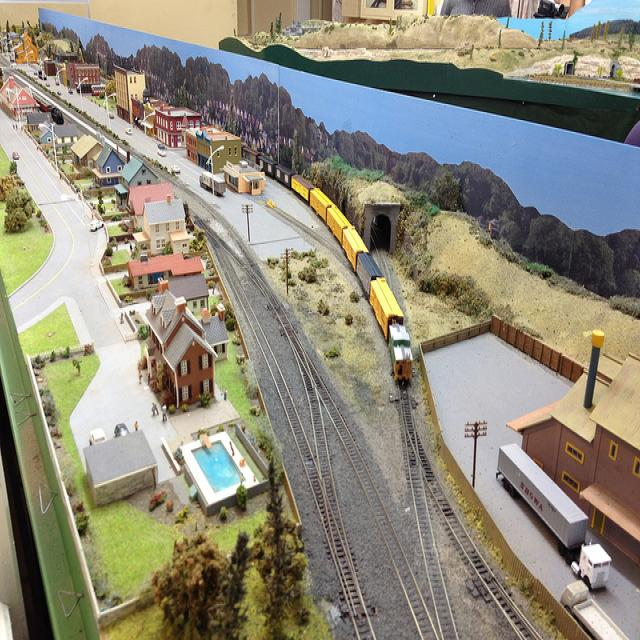Vehicle: (496, 441, 610, 591)
